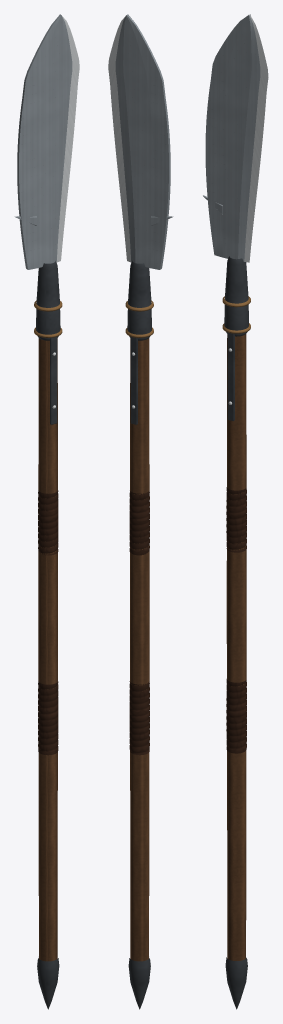
The model's file is glaive.glb.
3 views of the same model, side by side, from view 1: azimuth 30°, elevation 25°; view 2: azimuth 150°, elevation 25°; view 3: azimuth 330°, elevation 25° (orthographic).
Parts seen in each view (by area): view 1: steel / forged blade steel, wood / oiled hardwood, darksteel / oil-blackened fittings, leather / oiled leather wrap, edge / honed bright bevel, bronze / cast bronze with patina; view 2: steel / forged blade steel, wood / oiled hardwood, darksteel / oil-blackened fittings, leather / oiled leather wrap, edge / honed bright bevel, bronze / cast bronze with patina; view 3: steel / forged blade steel, wood / oiled hardwood, darksteel / oil-blackened fittings, leather / oiled leather wrap, edge / honed bright bevel, bronze / cast bronze with patina.
Boxes of the visible parts, x1,y1,x2,y2 form: steel / forged blade steel: (14,14,72,269); wood / oiled hardwood: (38,338,57,961); darksteel / oil-blackened fittings: (36,261,60,1009); leather / oiled leather wrap: (38,490,58,755); edge / honed bright bevel: (52,16,79,408); bronze / cast bronze with patina: (34,300,62,337); steel / forged blade steel: (115,14,173,269); wood / oiled hardwood: (130,338,149,961); darksteel / oil-blackened fittings: (127,261,151,1009); leather / oiled leather wrap: (129,490,149,755); edge / honed bright bevel: (108,16,135,408); bronze / cast bronze with patina: (125,300,153,337); steel / forged blade steel: (203,14,260,261); wood / oiled hardwood: (226,334,246,960); darksteel / oil-blackened fittings: (224,256,248,1009); leather / oiled leather wrap: (226,487,246,753); edge / honed bright bevel: (228,14,268,404); bronze / cast bronze with patina: (222,296,250,333).
Bounding box in the file's own units: 0.1551 × 2.25 × 0.0582.
6 materials, 6 textured.
